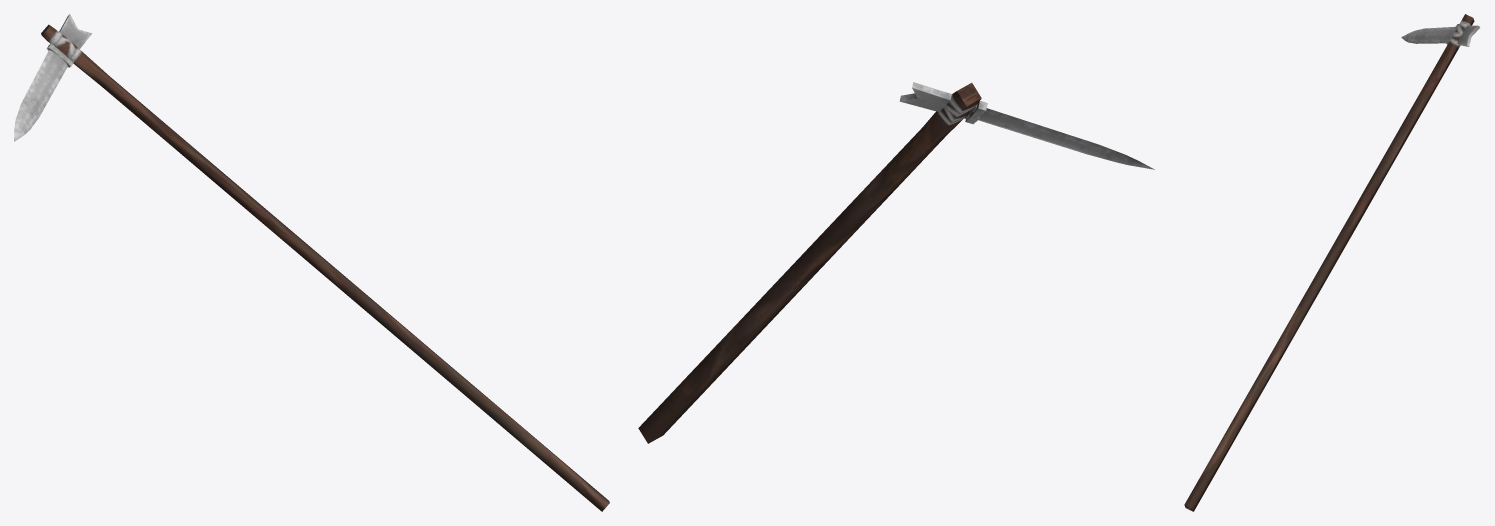
Rendered from weapon-slice-base.glb.
The picture shows the model from 3 angles, left to right: view 1: azimuth 30°, elevation 25°; view 2: azimuth 150°, elevation 25°; view 3: azimuth 270°, elevation 25°; orthographic projection. The views are drawn at different scales.
Size of the model in its own units: 1.46 by 1.35 by 1.03.
Materials: 1 (1 with a texture image).
